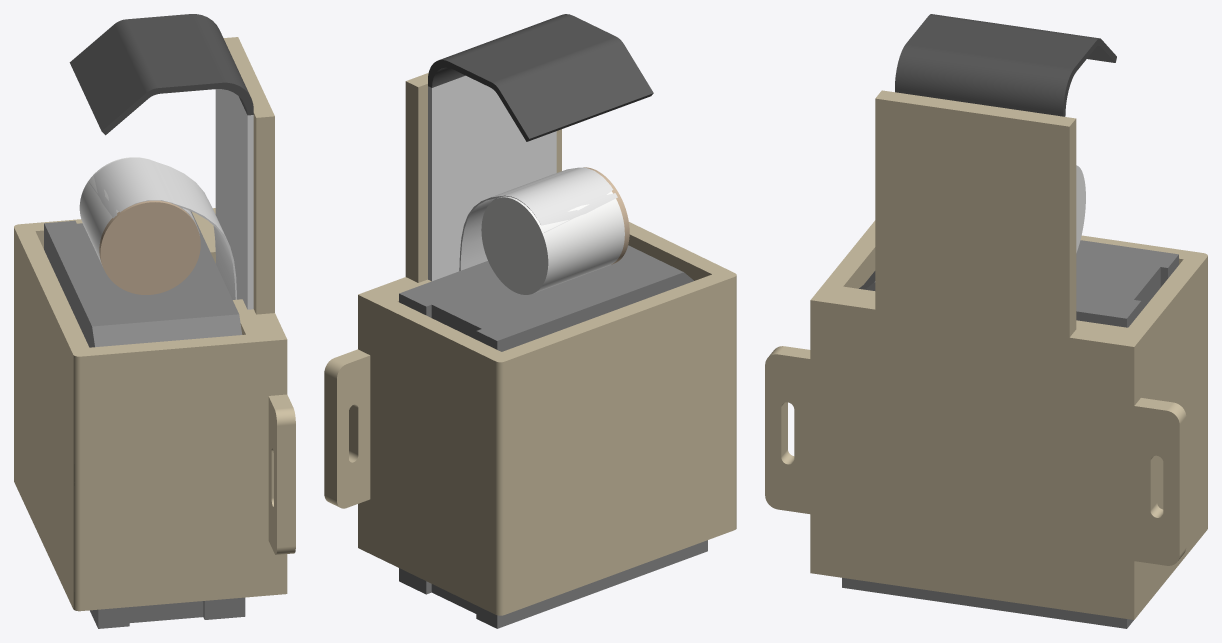
File: Porta-carbon-sensor.glb
3 views of the same model, side by side, from view 1: azimuth 30°, elevation 25°; view 2: azimuth 150°, elevation 25°; view 3: azimuth 270°, elevation 25° (orthographic). The views are drawn at different scales.
Parts seen in each view (by area): view 1: Porta escobila.001, Body1.005, Body1.003, Body6, Body1.004, Body1.002, Body2.001; view 2: Porta escobila.001, Body1.005, Body1.003, Body1.004, Body2.001, Body1.002; view 3: Porta escobila.001, Body1.003, Body1.005, Body2.001.
Boxes of the visible parts, left/top/right/bottom form: Porta escobila.001: left=14, top=37, right=295, bottom=611; Body1.005: left=44, top=211, right=245, bottom=628; Body1.003: left=69, top=14, right=253, bottom=135; Body6: left=99, top=200, right=200, bottom=294; Body1.004: left=215, top=89, right=253, bottom=309; Body1.002: left=89, top=157, right=236, bottom=299; Body2.001: left=79, top=157, right=192, bottom=263; Porta escobila.001: left=324, top=73, right=736, bottom=615; Body1.005: left=399, top=245, right=707, bottom=628; Body1.003: left=428, top=14, right=653, bottom=141; Body1.004: left=428, top=75, right=556, bottom=281; Body2.001: left=481, top=191, right=624, bottom=294; Body1.002: left=459, top=167, right=617, bottom=270; Porta escobila.001: left=765, top=90, right=1207, bottom=619; Body1.003: left=895, top=14, right=1116, bottom=116; Body1.005: left=842, top=240, right=1178, bottom=628; Body2.001: left=1076, top=165, right=1085, bottom=252.
Bounding box in the file's own units: 0.0504 × 0.0882 × 0.0647.
